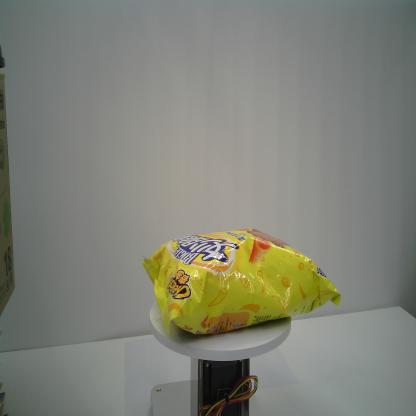Puffed Food: (141, 225, 342, 339)
